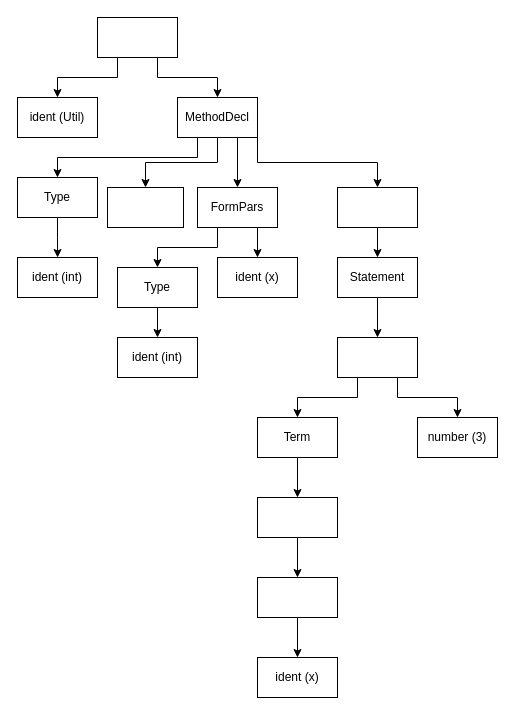
Some shapes in this 515 by 715 pixel diagram are drawn without their labels. The shapes that lost their labels are listed below. From the top down, each one's box as (x1, y1, x2, y2) in pixels, then its label:
(96, 16, 178, 58): Program
(106, 186, 184, 228): ident (power3)
(336, 186, 418, 228): Block
(336, 336, 418, 378): Expr
(256, 496, 338, 538): Factor
(256, 576, 338, 618): Designator
